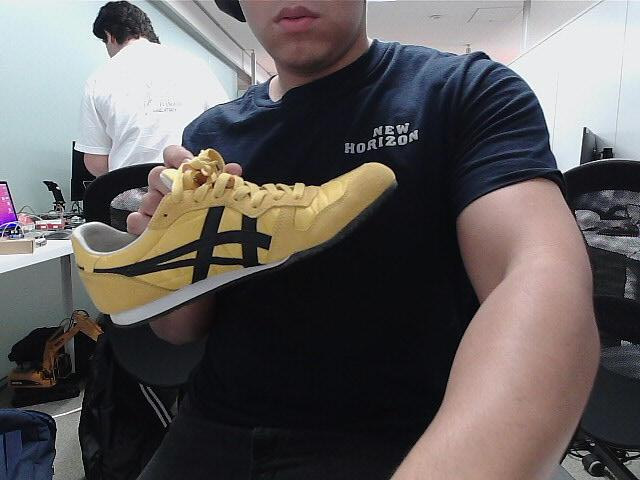Shoes: (69, 154, 396, 329)
